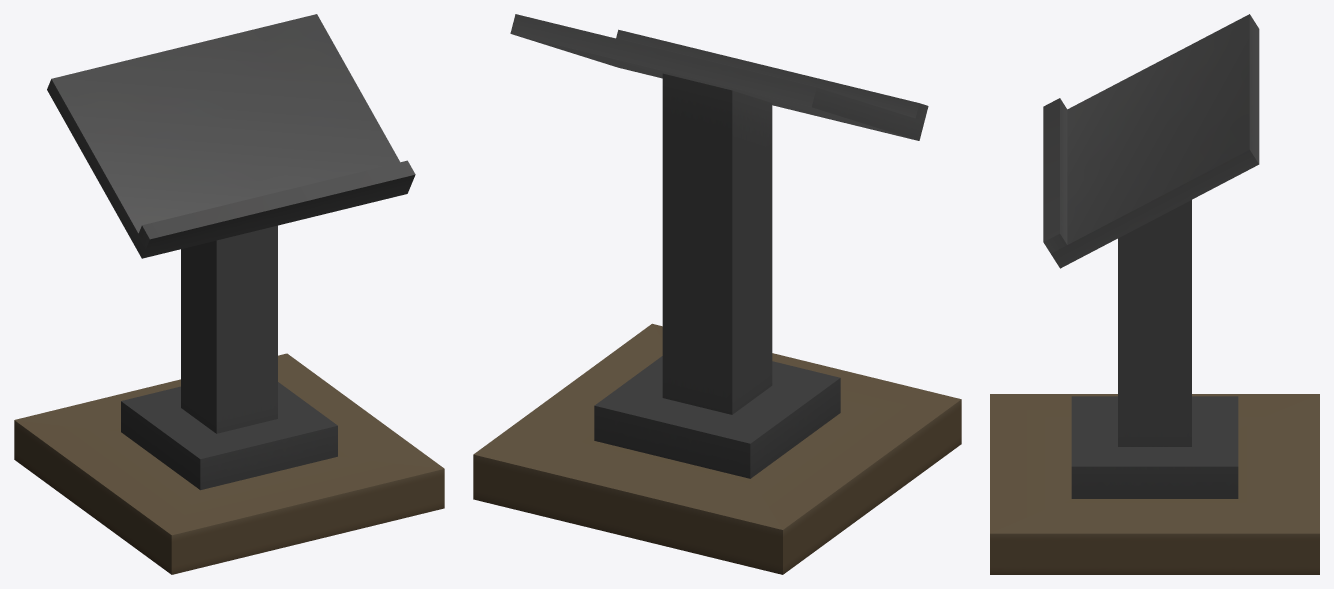
File: Base_Reading_2x2.fbx
The picture shows the model from 3 angles, left to right: view 1: azimuth 30°, elevation 25°; view 2: azimuth 150°, elevation 25°; view 3: azimuth 270°, elevation 25°; orthographic projection. The views are drawn at different scales.
Parts seen in each view (by area): view 1: Base_Reading_2x2; view 2: Base_Reading_2x2; view 3: Base_Reading_2x2.
Boxes of the visible parts, <box> form: Base_Reading_2x2: <box>14,14,444,574</box>; Base_Reading_2x2: <box>473,14,961,574</box>; Base_Reading_2x2: <box>990,14,1319,574</box>.
Bounding box in the file's own units: 86.04 × 122 × 86.04.
